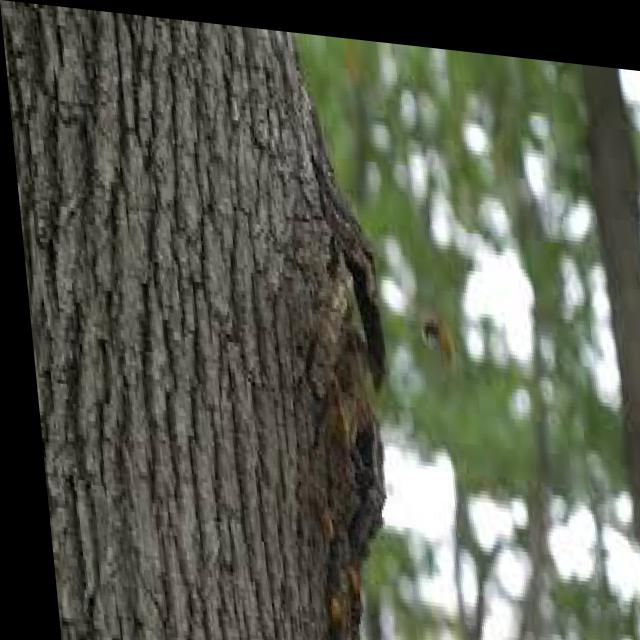Vespa Crabro: (408, 295, 462, 382), (302, 482, 329, 546), (335, 558, 354, 605), (312, 583, 331, 627)
